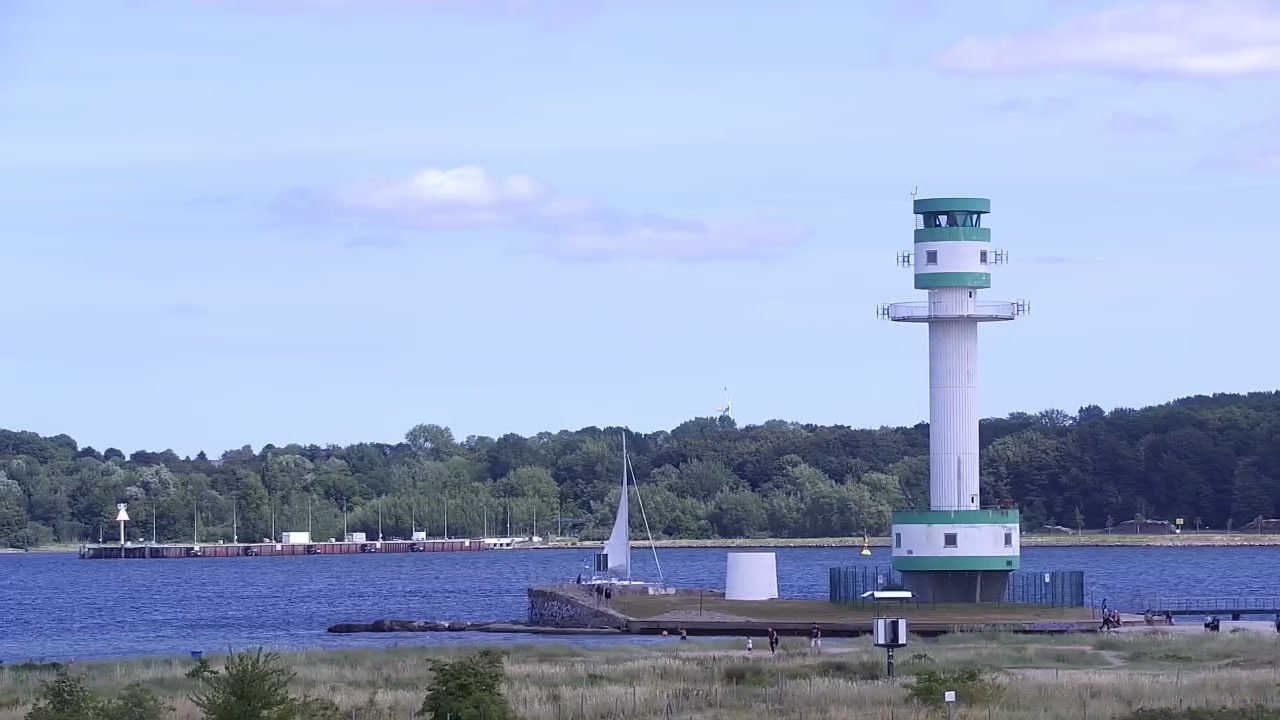human: (807, 620, 821, 655), (767, 626, 780, 657), (1099, 608, 1111, 630), (603, 585, 612, 608), (743, 634, 753, 654), (1143, 608, 1154, 626), (594, 583, 603, 604), (1212, 615, 1221, 633), (1203, 612, 1211, 632), (1101, 597, 1108, 618), (1112, 609, 1120, 627), (1166, 609, 1174, 626), (1274, 614, 1280, 635), (679, 627, 687, 640)
sea: (576, 428, 667, 588)
